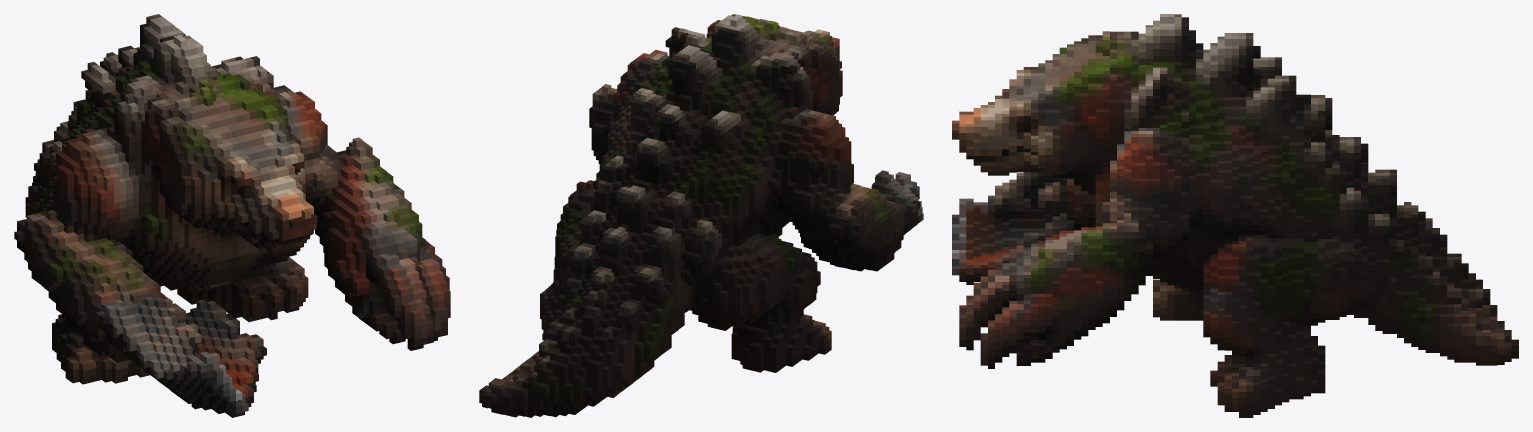
File: u_fouisseur.glb
3 views of the same model, side by side, from view 1: azimuth 30°, elevation 25°; view 2: azimuth 150°, elevation 25°; view 3: azimuth 270°, elevation 25° (orthographic). The views are drawn at different scales.
Visible parts, largest first — view 1: fouisseur_body; view 2: fouisseur_body; view 3: fouisseur_body.
Part boxes in pixels (x1,y1,x2,y2): fouisseur_body: [14, 14, 450, 417]; fouisseur_body: [479, 14, 923, 417]; fouisseur_body: [952, 14, 1518, 417].
Bounding box in the file's own units: 0.5245 × 0.4948 × 0.7818.
1 material, 1 textured.
